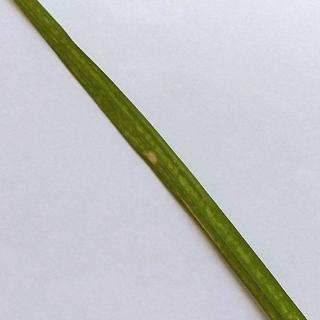Blast: (140, 139, 178, 194)
